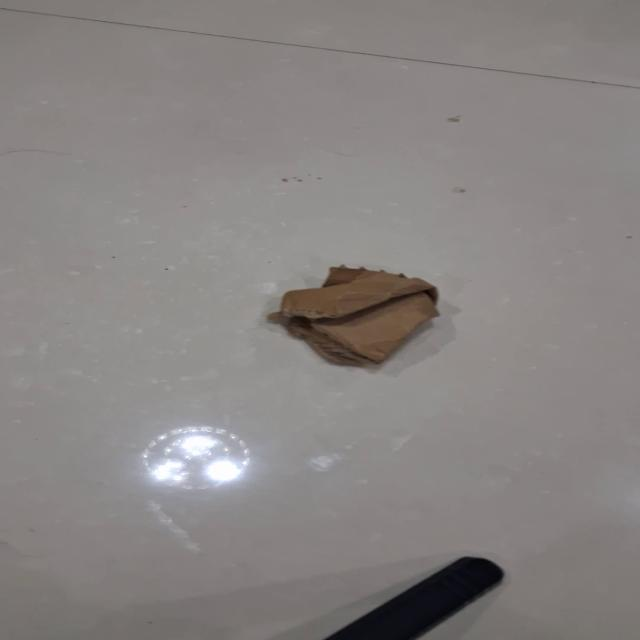paper: (272, 264, 440, 366)
